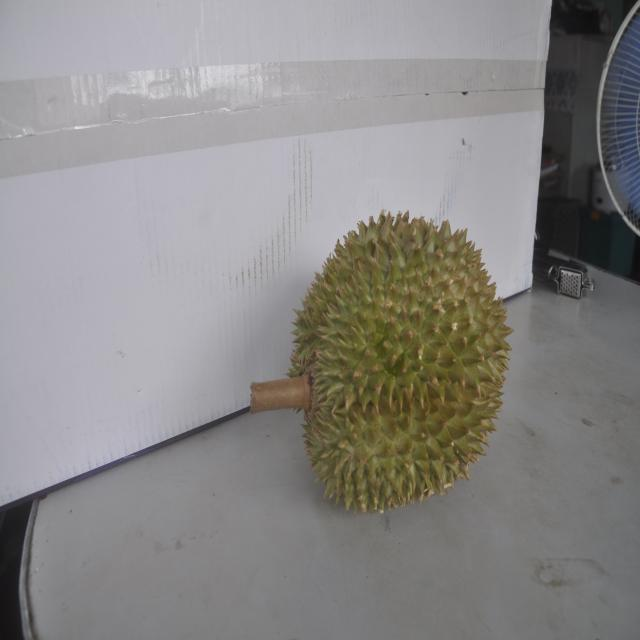mature: (302, 205, 510, 510)
